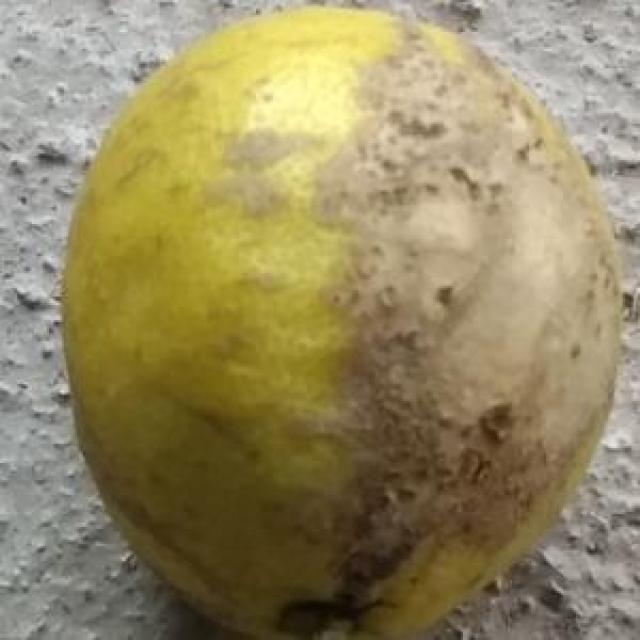lemon: (64, 4, 629, 640)
